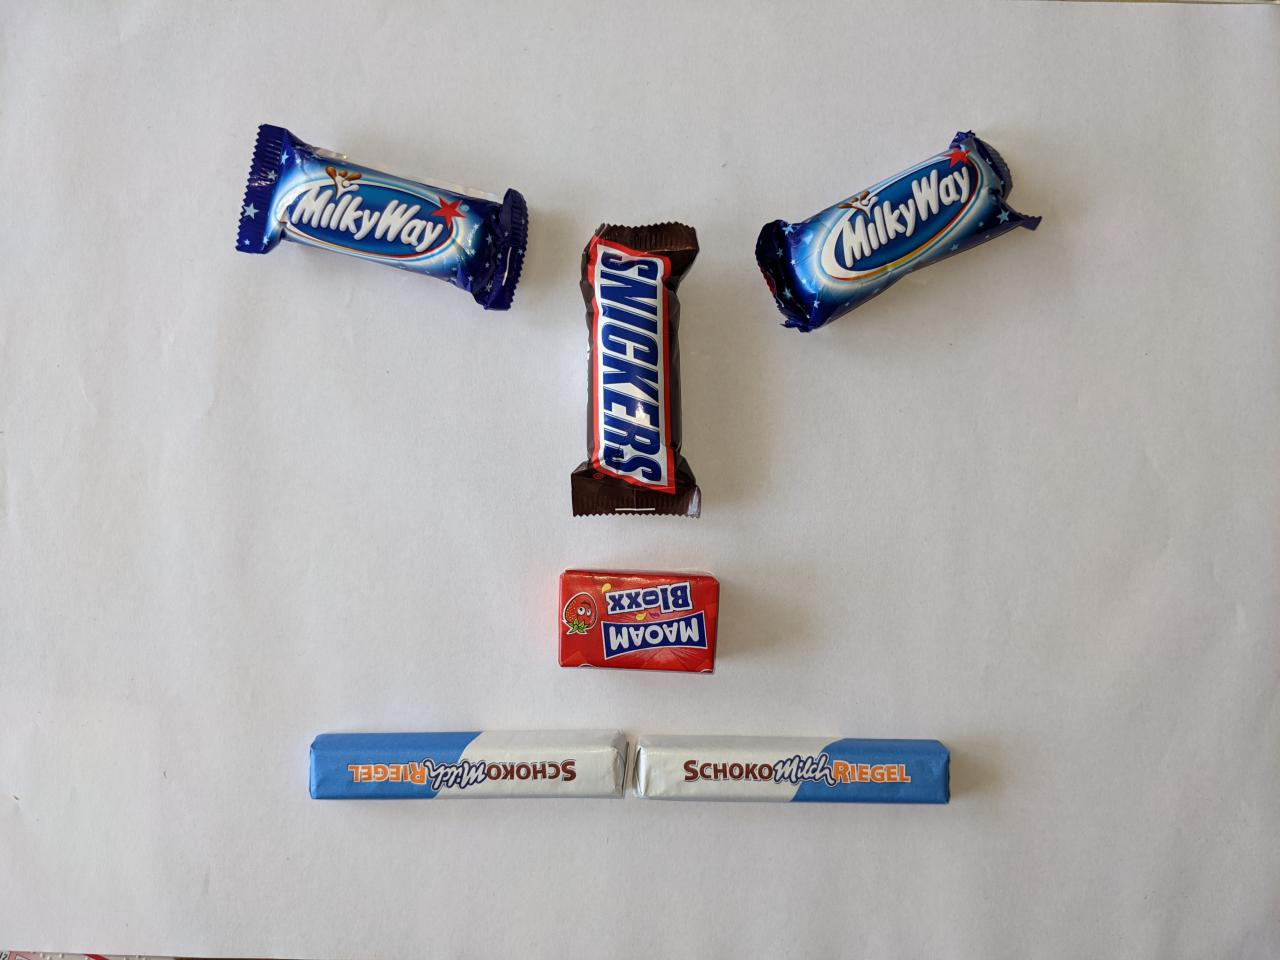MAOAM: (548, 557, 726, 681)
MilkyWay: (748, 121, 1052, 338), (223, 111, 536, 320)
Schokoriegel: (300, 721, 635, 804), (628, 728, 958, 810)
Snickers: (564, 213, 712, 526)
